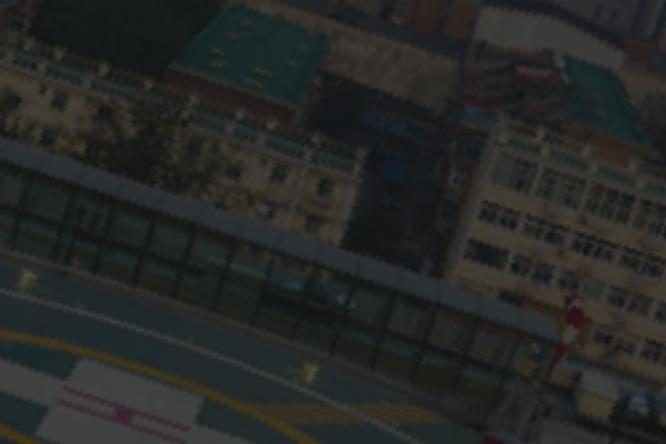Apron: (1, 345, 288, 432)
